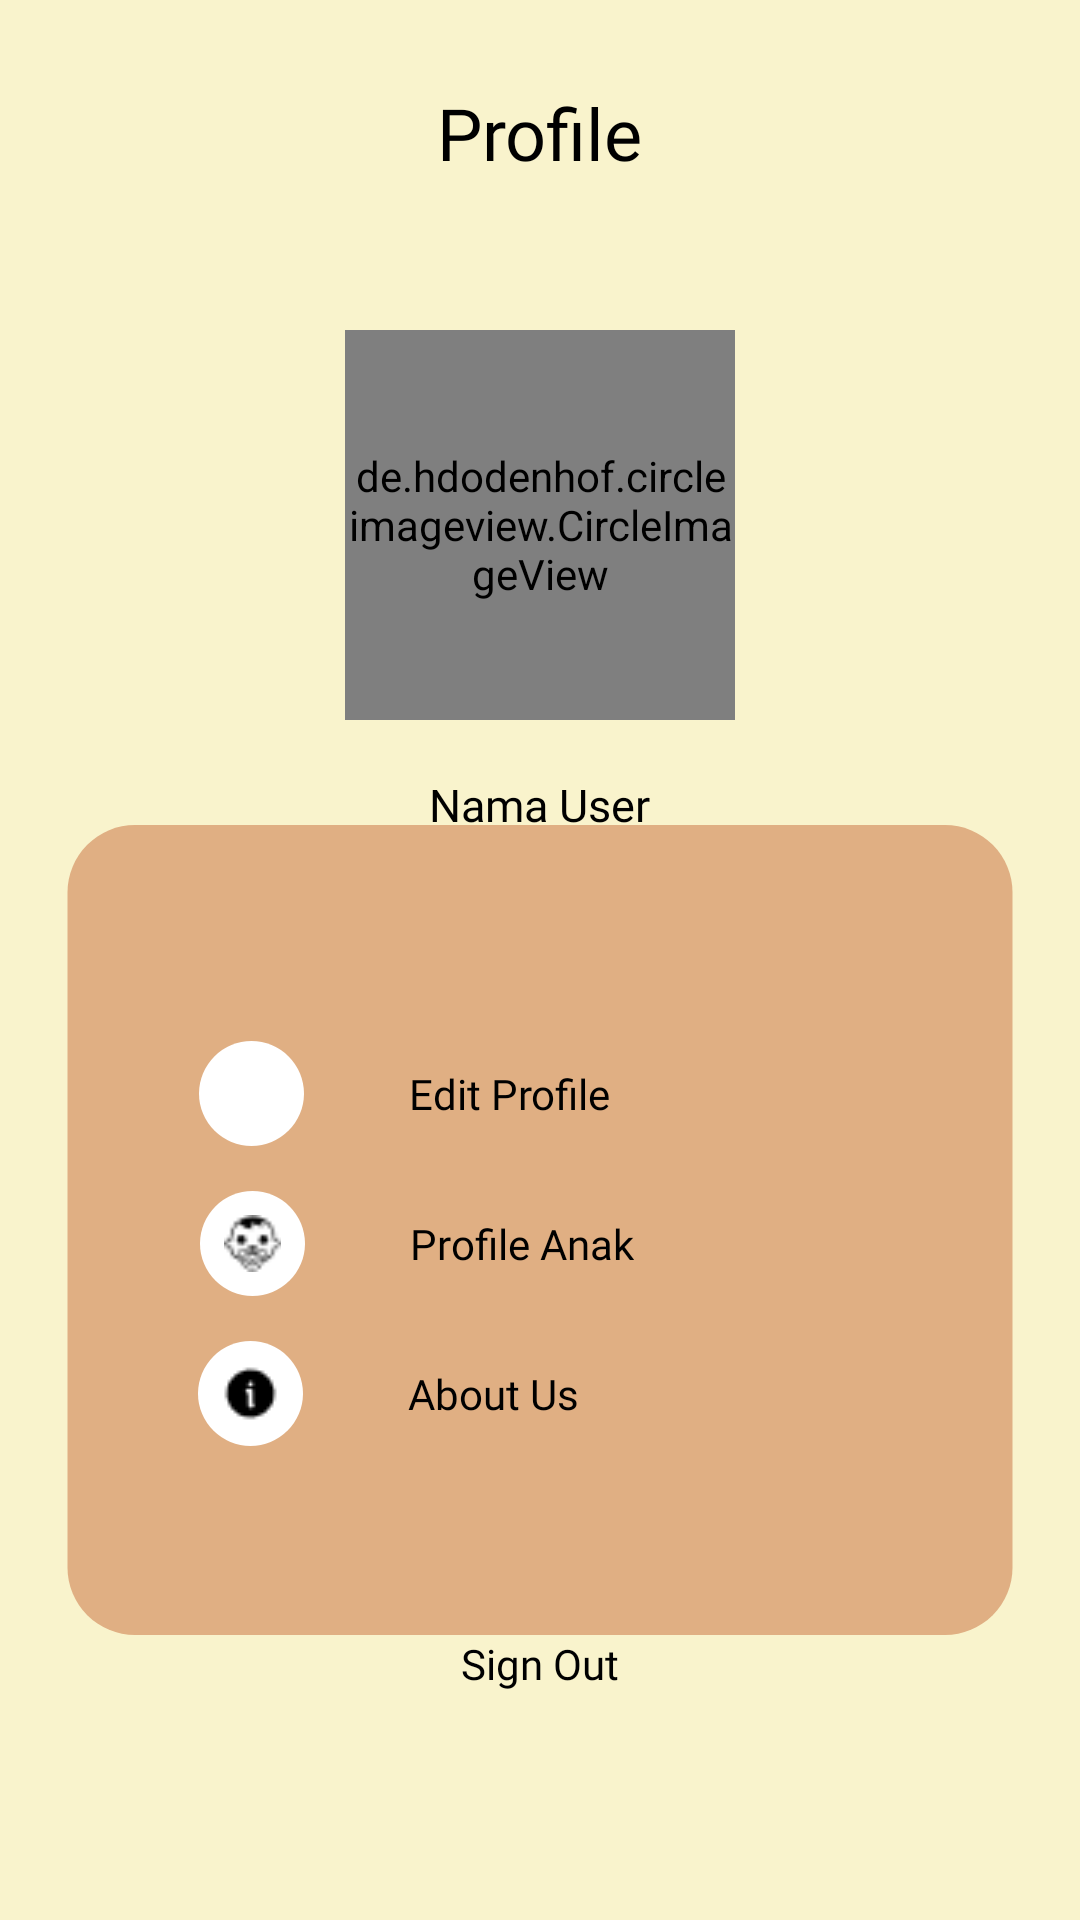

Locate icon controls on the screen. Image size 1080x1920, boxes as (x1, y1, x2, y2).
baby: (200, 1191, 305, 1296)
